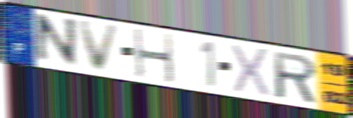1: (198, 41, 218, 90)
H: (131, 27, 176, 86)
N: (33, 12, 79, 69)
R: (271, 50, 319, 106)
V: (77, 20, 123, 73)
X: (230, 42, 272, 100)
